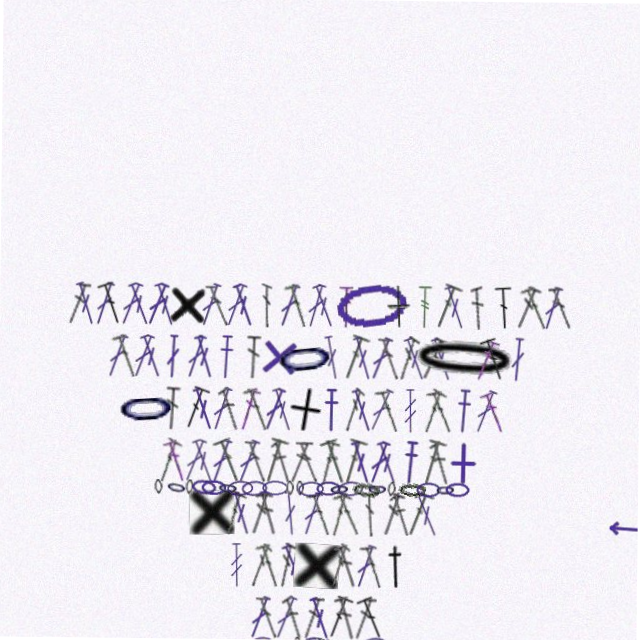chain: (409, 333, 521, 383), (333, 279, 411, 332), (273, 333, 338, 383), (116, 386, 179, 433), (339, 480, 366, 497), (354, 481, 382, 497), (193, 480, 219, 497), (243, 481, 270, 497), (400, 481, 428, 496), (229, 481, 255, 497), (300, 481, 326, 497), (167, 480, 190, 498), (264, 481, 290, 496), (203, 481, 228, 496), (318, 481, 343, 496), (418, 481, 443, 496), (447, 481, 472, 496), (219, 481, 241, 497), (331, 481, 352, 497), (369, 481, 390, 496), (437, 481, 458, 496), (156, 481, 165, 496), (187, 481, 196, 496), (389, 481, 398, 496), (288, 481, 296, 496), (298, 481, 306, 496), (314, 636, 343, 640), (365, 636, 392, 640), (306, 636, 332, 640), (253, 637, 279, 640), (272, 637, 294, 640), (243, 637, 264, 640), (297, 637, 306, 640)
double: (214, 438, 248, 485), (404, 490, 437, 537), (430, 282, 463, 329), (359, 594, 392, 640), (321, 438, 353, 485), (339, 334, 371, 381), (326, 594, 358, 640), (181, 386, 212, 433), (479, 334, 510, 381), (96, 282, 127, 329), (281, 543, 312, 589), (334, 491, 365, 537), (418, 335, 449, 381), (519, 283, 550, 329), (261, 438, 291, 485), (340, 438, 370, 485), (419, 438, 449, 485), (414, 491, 444, 537), (155, 439, 185, 485), (419, 387, 449, 433), (427, 387, 457, 433), (116, 283, 146, 329), (142, 283, 172, 329), (512, 283, 542, 329), (274, 595, 304, 640), (367, 387, 397, 432), (308, 491, 337, 537), (182, 439, 211, 485), (235, 439, 264, 485), (243, 387, 272, 433), (261, 387, 290, 433), (375, 387, 404, 433), (472, 387, 501, 433), (480, 387, 509, 433), (111, 335, 140, 381), (129, 335, 158, 381), (137, 335, 166, 381), (367, 335, 396, 381), (401, 335, 430, 381), (472, 335, 501, 381), (221, 283, 250, 329), (229, 283, 258, 329), (309, 283, 338, 329), (257, 543, 285, 589), (336, 543, 364, 589), (354, 543, 382, 589), (222, 491, 250, 537), (191, 439, 219, 485), (209, 439, 237, 485), (367, 439, 395, 485), (375, 439, 403, 485), (349, 387, 377, 433), (428, 335, 456, 381), (125, 283, 153, 329), (151, 283, 179, 329), (196, 283, 224, 329), (275, 283, 303, 329), (441, 283, 469, 329), (249, 595, 277, 640), (362, 543, 389, 589), (230, 491, 257, 537), (249, 491, 276, 537), (257, 491, 284, 537), (301, 491, 328, 537), (328, 491, 355, 537), (381, 491, 408, 537), (164, 439, 191, 485), (349, 439, 376, 485), (191, 387, 218, 433), (209, 387, 236, 433), (270, 387, 297, 433), (104, 335, 131, 381), (183, 335, 210, 381), (191, 335, 218, 381), (72, 283, 99, 329), (283, 283, 310, 329), (539, 283, 566, 329), (310, 595, 337, 640), (394, 335, 421, 380), (316, 439, 342, 485), (350, 335, 376, 381), (91, 283, 117, 329), (303, 283, 329, 329), (337, 595, 363, 640), (390, 491, 416, 536), (289, 439, 315, 484), (65, 283, 91, 328), (237, 387, 262, 433), (250, 544, 276, 588), (205, 284, 231, 328), (284, 595, 309, 640), (355, 595, 380, 640), (271, 439, 296, 484), (297, 439, 322, 484), (218, 387, 243, 432), (342, 387, 367, 432), (548, 283, 573, 328), (259, 595, 283, 640), (304, 595, 328, 640), (330, 543, 354, 588), (246, 439, 270, 484), (430, 439, 454, 484), (378, 335, 402, 380), (277, 543, 300, 588), (322, 335, 343, 380), (494, 284, 514, 328), (283, 491, 302, 536), (509, 335, 527, 380), (165, 388, 182, 432), (165, 336, 182, 380), (246, 336, 262, 380), (470, 284, 485, 328), (339, 284, 353, 328), (366, 492, 378, 536), (261, 284, 272, 328)
half_double: (386, 544, 411, 588), (402, 439, 422, 484), (455, 387, 475, 432), (217, 336, 236, 380), (324, 388, 341, 432)
noise: (609, 517, 640, 533)
single: (256, 334, 303, 381), (296, 543, 343, 589), (191, 491, 237, 536), (443, 440, 487, 484), (286, 386, 326, 434), (167, 283, 209, 328), (387, 284, 411, 328)
treble: (417, 284, 433, 328), (232, 544, 247, 588), (404, 388, 419, 432)
